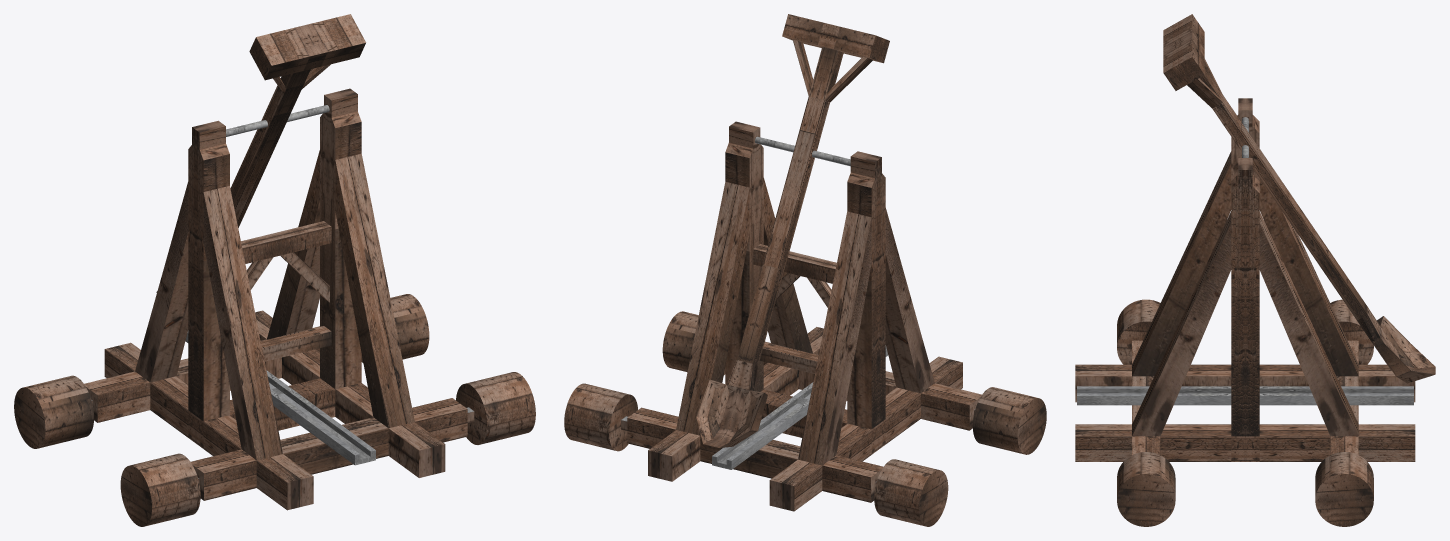
Rendered from Trebuchet.fbx.
The picture shows the model from 3 angles, left to right: view 1: azimuth 30°, elevation 25°; view 2: azimuth 150°, elevation 25°; view 3: azimuth 270°, elevation 25°; orthographic projection. The views are drawn at different scales.
Visible parts, largest first — view 1: Trebuchet_Foundation, Trebuchet_Katapult; view 2: Trebuchet_Foundation, Trebuchet_Katapult; view 3: Trebuchet_Foundation, Trebuchet_Katapult.
Boxes of the visible parts, x1,y1,x2,y2 form: Trebuchet_Foundation: (14,88,535,526); Trebuchet_Katapult: (156,14,365,292); Trebuchet_Foundation: (564,121,1046,526); Trebuchet_Katapult: (696,14,889,447); Trebuchet_Foundation: (1075,98,1415,526); Trebuchet_Katapult: (1163,14,1435,383).
Bounding box in the file's own units: 728 × 787 × 636.
